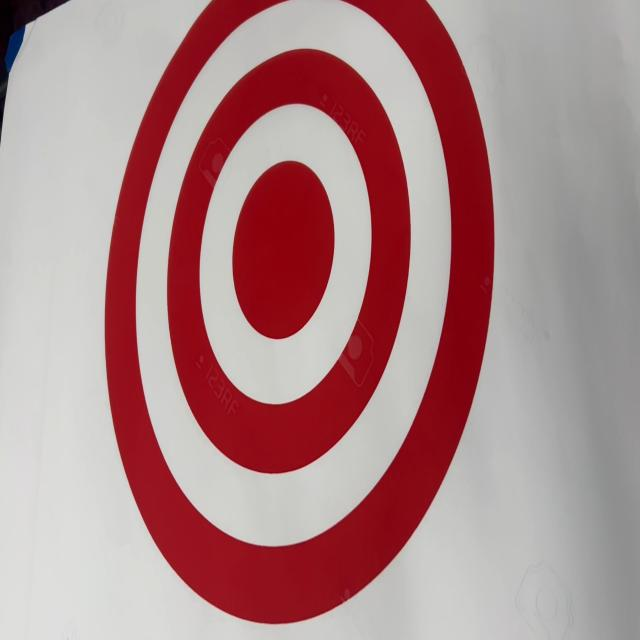target_red: (88, 1, 507, 630)
